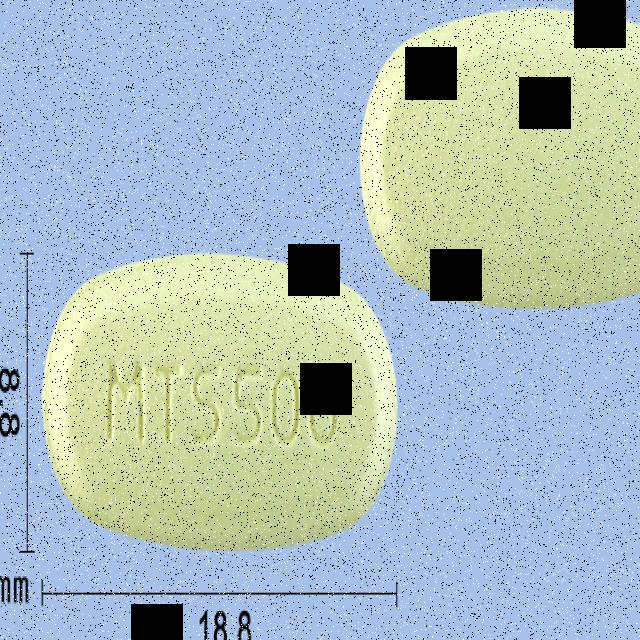Clarimacin: (34, 252, 404, 558)
